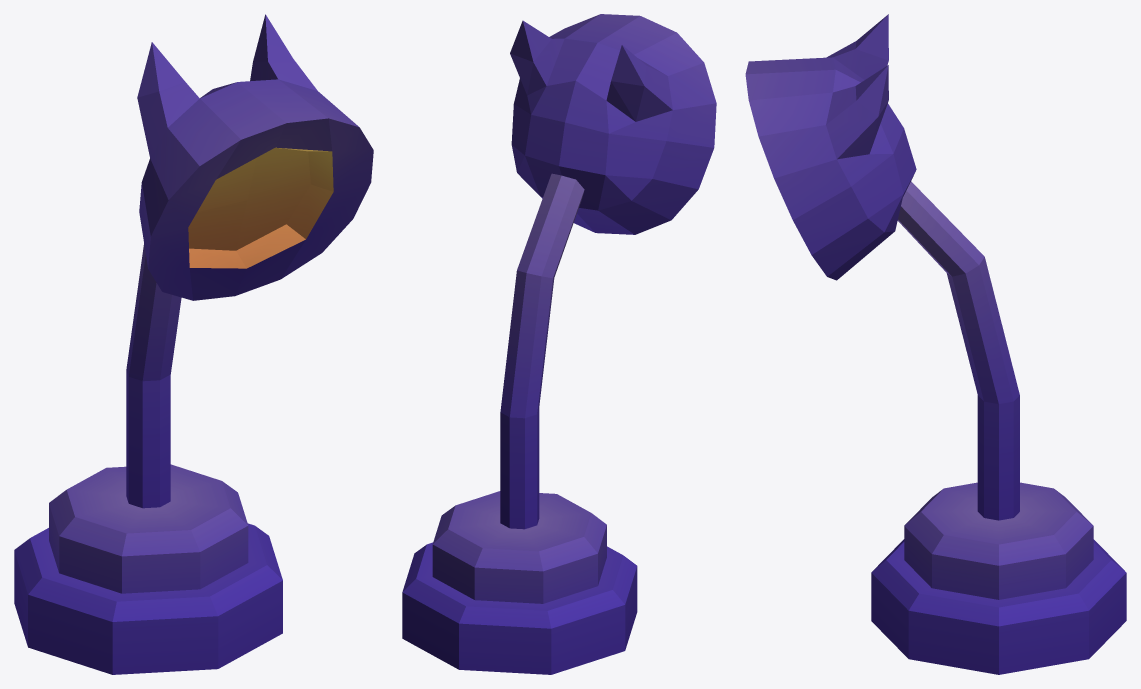
The model's file is sp_lamp_little_desktop_a 1.fbx.
The picture shows the model from 3 angles, left to right: view 1: azimuth 30°, elevation 25°; view 2: azimuth 150°, elevation 25°; view 3: azimuth 270°, elevation 25°; orthographic projection. The views are drawn at different scales.
Visible parts, largest first — view 1: sp_lamp_little_desktop_a; view 2: sp_lamp_little_desktop_a; view 3: sp_lamp_little_desktop_a.
Boxes of the visible parts, left/top/right/bottom form: sp_lamp_little_desktop_a: left=14, top=14, right=373, bottom=674; sp_lamp_little_desktop_a: left=402, top=14, right=716, bottom=674; sp_lamp_little_desktop_a: left=745, top=14, right=1126, bottom=674.
Size of the model in its own units: 11.03 by 27.74 by 16.47.
